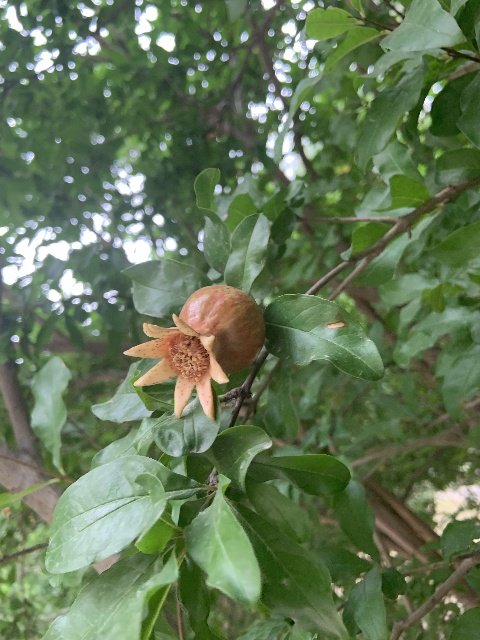early-fruit: (123, 283, 266, 422)
